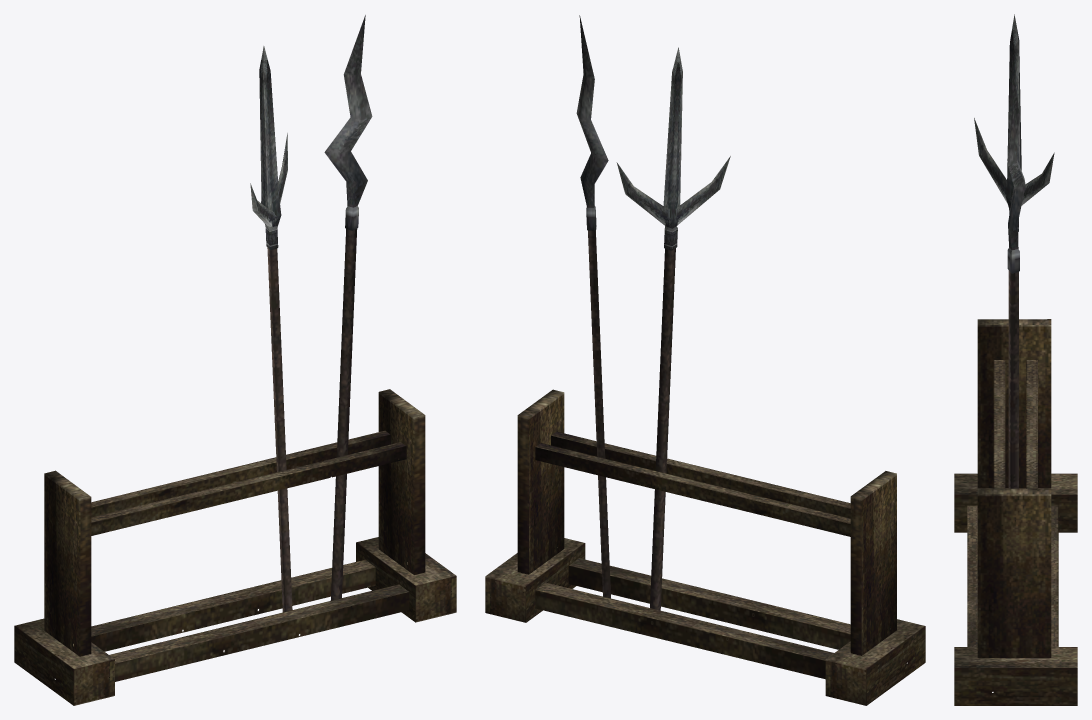
File: ep_b_general_obj_25-2.fbx
The picture shows the model from 3 angles, left to right: view 1: azimuth 30°, elevation 25°; view 2: azimuth 150°, elevation 25°; view 3: azimuth 270°, elevation 25°; orthographic projection. The views are drawn at different scales.
Parts seen in each view (by area): view 1: ep_B_general_obj_25-2; view 2: ep_B_general_obj_25-2; view 3: ep_B_general_obj_25-2.
Boxes of the visible parts, left/top/right/bottom form: ep_B_general_obj_25-2: left=14, top=15, right=456, bottom=705; ep_B_general_obj_25-2: left=485, top=15, right=925, bottom=705; ep_B_general_obj_25-2: left=954, top=14, right=1077, bottom=705.
Bounding box in the file's own units: 2.04 × 3.02 × 0.5487.
